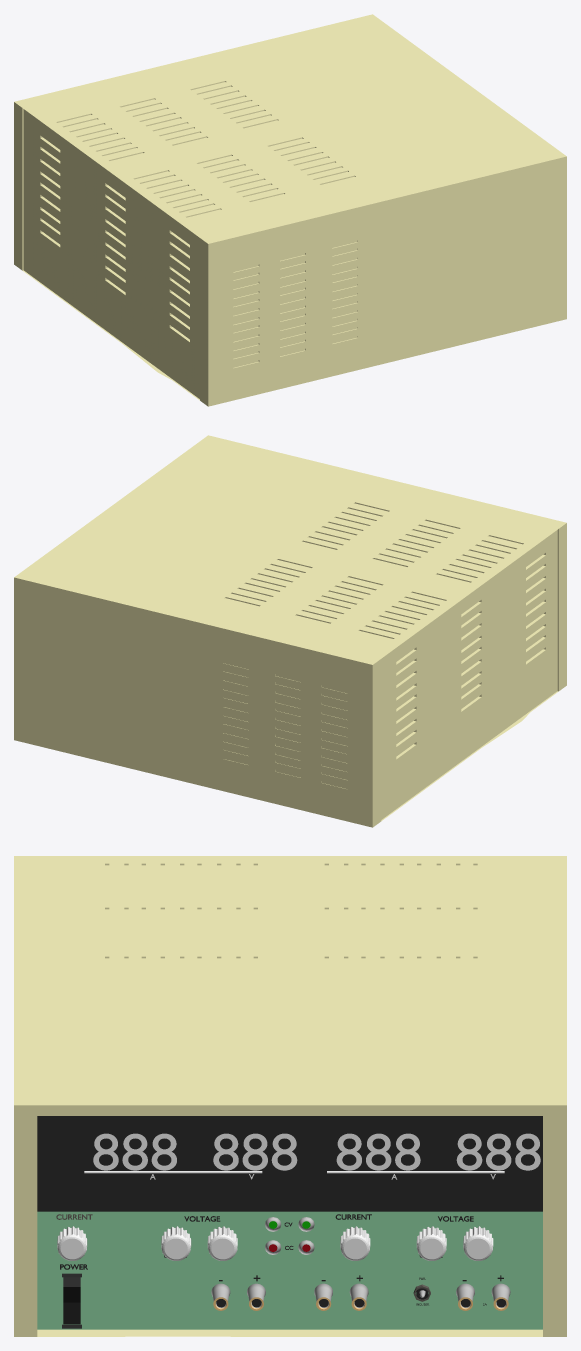
Rendered from power_suply_dc.glb.
The picture shows the model from 3 angles, top to bottom: view 1: azimuth 30°, elevation 25°; view 2: azimuth 150°, elevation 25°; view 3: azimuth 270°, elevation 25°; orthographic projection. The views are drawn at different scales.
Parts seen in each view (by area): view 1: badan_2; view 2: badan_2; view 3: badan_2, badan.002_14, badan.001_13, Text.051_91, Text.050_90, Cylinder.018_44, Cylinder.019_45, Cylinder.002_26, Cylinder.008_42, Cylinder.001_25, Cylinder.017_43, Cube.002_10.
Part boxes in pixels (x1,y1,x2,y2): badan_2: (14,14,566,406); badan_2: (14,435,566,827); badan_2: (14,856,566,1336); badan.002_14: (37,1211,542,1329); badan.001_13: (37,1116,542,1211); Text.051_91: (336,1133,540,1170); Text.050_90: (93,1133,297,1170); Cylinder.018_44: (463,1226,493,1260); Cylinder.019_45: (340,1226,370,1260); Cylinder.002_26: (57,1226,87,1260); Cylinder.008_42: (207,1226,237,1260); Cylinder.001_25: (161,1226,191,1260); Cylinder.017_43: (416,1226,446,1260); Cube.002_10: (63,1277,80,1324).
Size of the model in its own units: 3.64 by 1.54 by 3.32.
